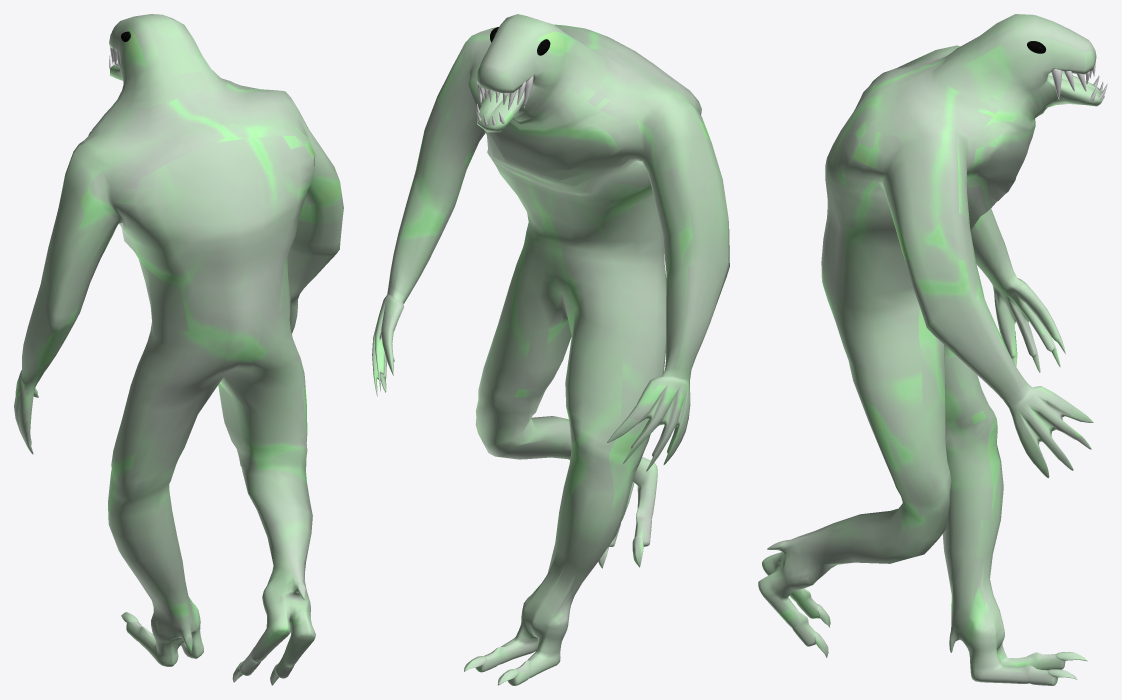
File: Berserkerandar.0076.obj
The picture shows the model from 3 angles, left to right: view 1: azimuth 30°, elevation 25°; view 2: azimuth 150°, elevation 25°; view 3: azimuth 270°, elevation 25°; orthographic projection. The views are drawn at different scales.
Visible parts, largest first — view 1: polySurface27; view 2: polySurface27; view 3: polySurface27.
Boxes of the visible parts, x1,y1,x2,y2 form: polySurface27: [14, 14, 343, 685]; polySurface27: [372, 14, 729, 685]; polySurface27: [758, 14, 1107, 685].
Size of the model in its own units: 11.41 by 23.7 by 11.41.
Materials: 1 (1 with a texture image).
